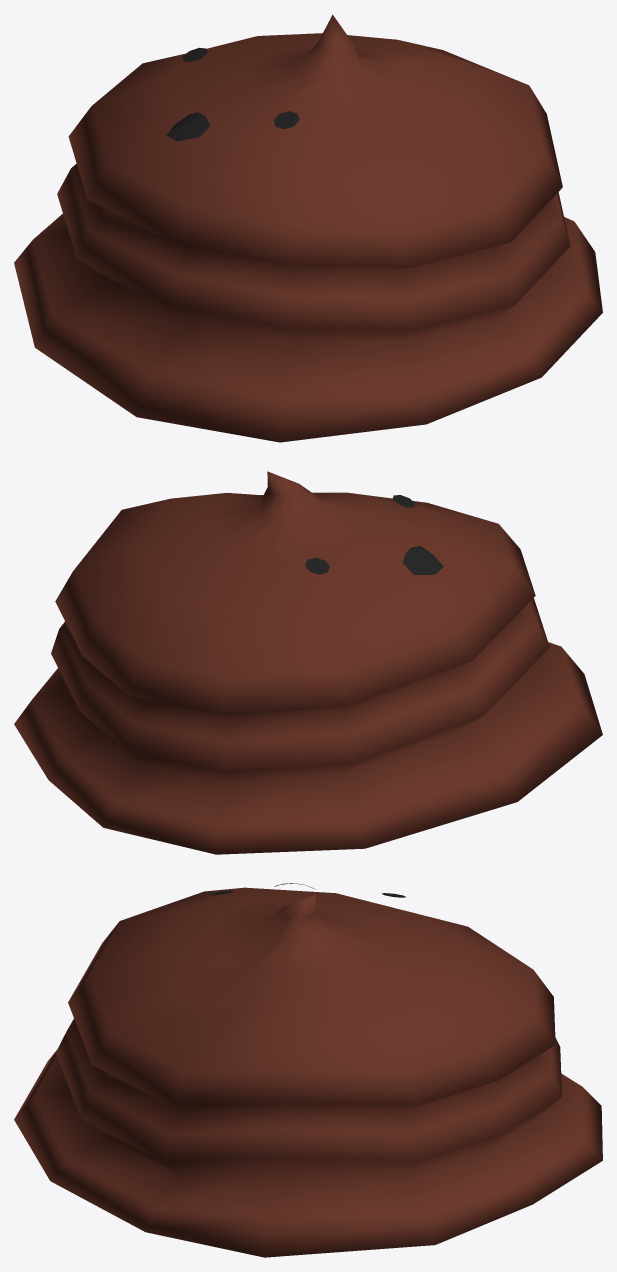
File: poop3.fbx
The picture shows the model from 3 angles, top to bottom: view 1: azimuth 30°, elevation 25°; view 2: azimuth 150°, elevation 25°; view 3: azimuth 270°, elevation 25°; orthographic projection. The views are drawn at different scales.
Parts seen in each view (by area): view 1: poop3; view 2: poop3; view 3: poop3.
Boxes of the visible parts, x1,y1,x2,y2 form: poop3: (14, 14, 602, 442); poop3: (14, 471, 602, 854); poop3: (14, 883, 602, 1257).
Size of the model in its own units: 106 by 53.8 by 112.
